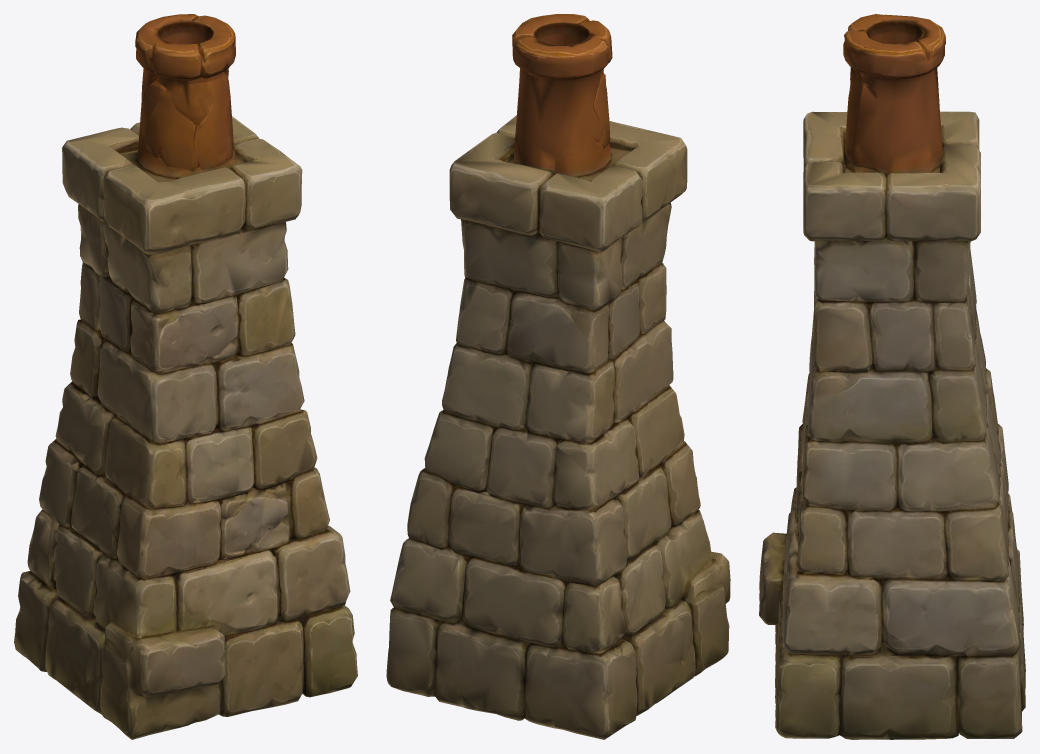
Rendered from mod_chimney_a.glb.
The picture shows the model from 3 angles, left to right: view 1: azimuth 30°, elevation 25°; view 2: azimuth 150°, elevation 25°; view 3: azimuth 270°, elevation 25°; orthographic projection. The views are drawn at different scales.
Parts seen in each view (by area): view 1: tripo_node_3e606905-5cf7-4c4c-8a88-328c4d3ec91d; view 2: tripo_node_3e606905-5cf7-4c4c-8a88-328c4d3ec91d; view 3: tripo_node_3e606905-5cf7-4c4c-8a88-328c4d3ec91d.
Boxes of the visible parts, left/top/right/bottom form: tripo_node_3e606905-5cf7-4c4c-8a88-328c4d3ec91d: left=14, top=14, right=357, bottom=739; tripo_node_3e606905-5cf7-4c4c-8a88-328c4d3ec91d: left=386, top=14, right=730, bottom=739; tripo_node_3e606905-5cf7-4c4c-8a88-328c4d3ec91d: left=759, top=14, right=1025, bottom=739.
Size of the model in its own units: 0.372 by 0.9805 by 0.3632.
Materials: 1 (1 with a texture image).
